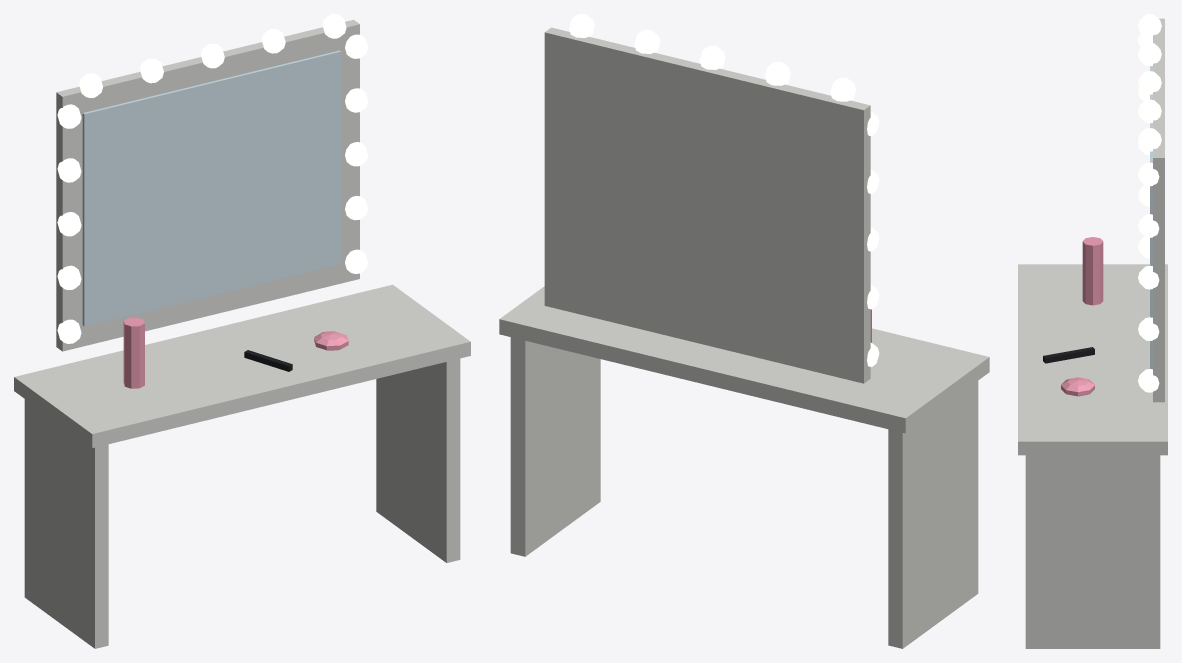
The model's file is makeup_mirror.glb.
The picture shows the model from 3 angles, left to right: view 1: azimuth 30°, elevation 25°; view 2: azimuth 150°, elevation 25°; view 3: azimuth 270°, elevation 25°; orthographic projection. The views are drawn at different scales.
Visible parts, largest first — view 1: table_tv_white, mirror_makeup_glass, mirror_tv_white, bulbs_makeup_bulb, spray_makeup_pink; view 2: mirror_tv_white, table_tv_white, bulbs_makeup_bulb; view 3: table_tv_white, bulbs_makeup_bulb, mirror_tv_white, spray_makeup_pink, puff_makeup_pink, brush_tv_black, mirror_makeup_glass.
Boxes of the visible parts, box(x1,y1,x2,y2) form: table_tv_white: box(14, 284, 470, 648); mirror_makeup_glass: box(82, 50, 341, 326); mirror_tv_white: box(56, 19, 359, 351); bulbs_makeup_bulb: box(57, 14, 368, 343); spray_makeup_pink: box(123, 317, 144, 388); mirror_tv_white: box(544, 27, 870, 383); table_tv_white: box(499, 286, 989, 648); bulbs_makeup_bulb: box(569, 14, 879, 366); table_tv_white: box(1018, 264, 1167, 648); bulbs_makeup_bulb: box(1138, 14, 1161, 392); mirror_tv_white: box(1153, 18, 1164, 402); spray_makeup_pink: box(1082, 237, 1103, 305); puff_makeup_pink: box(1061, 377, 1094, 396); brush_tv_black: box(1043, 347, 1094, 363); mirror_makeup_glass: box(1150, 66, 1152, 369).
Bounding box in the file's own units: 1.4 × 1.81 × 0.5.
